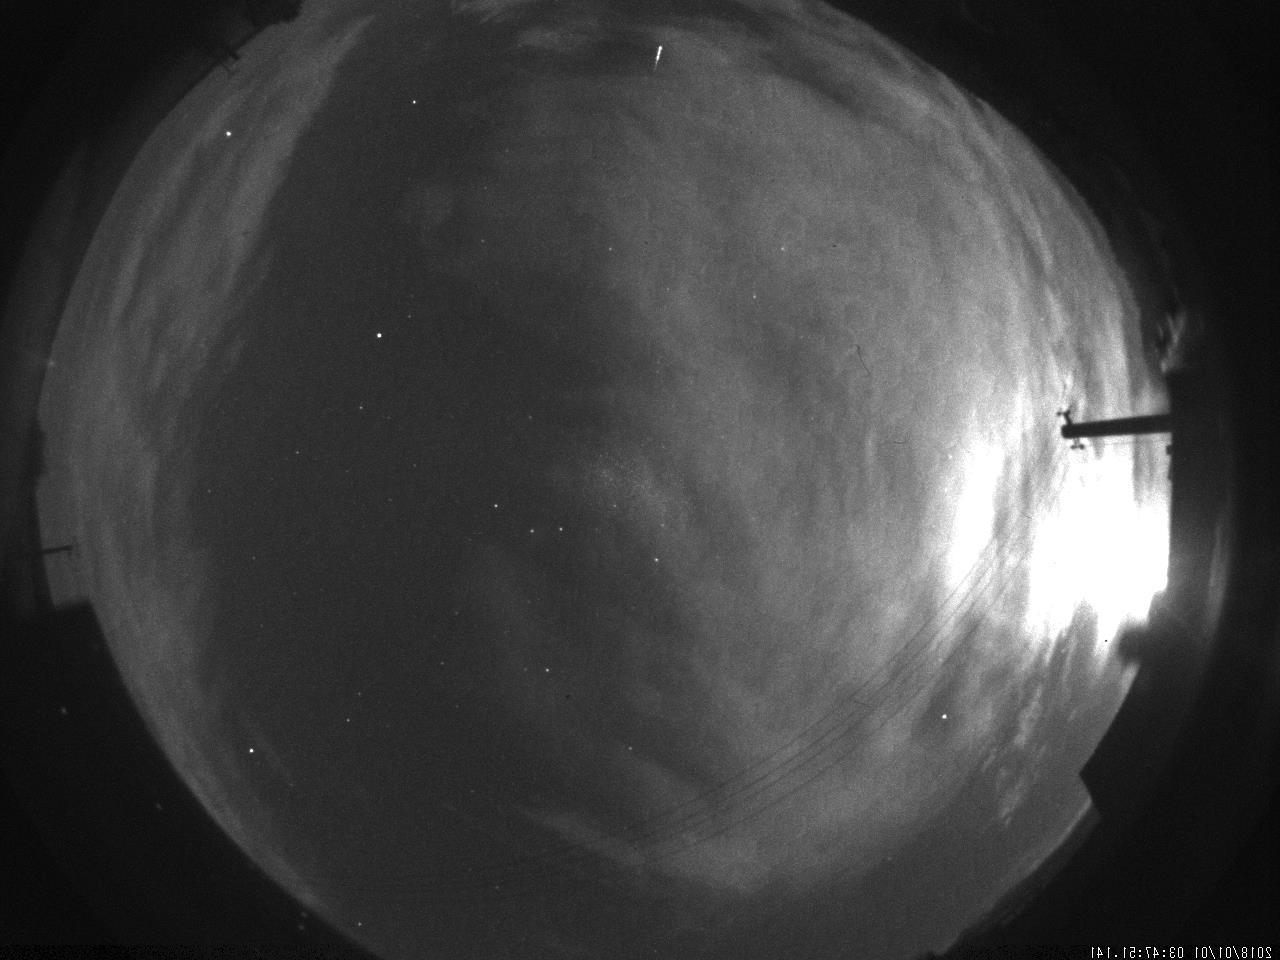meteor: (641, 41, 677, 79)
